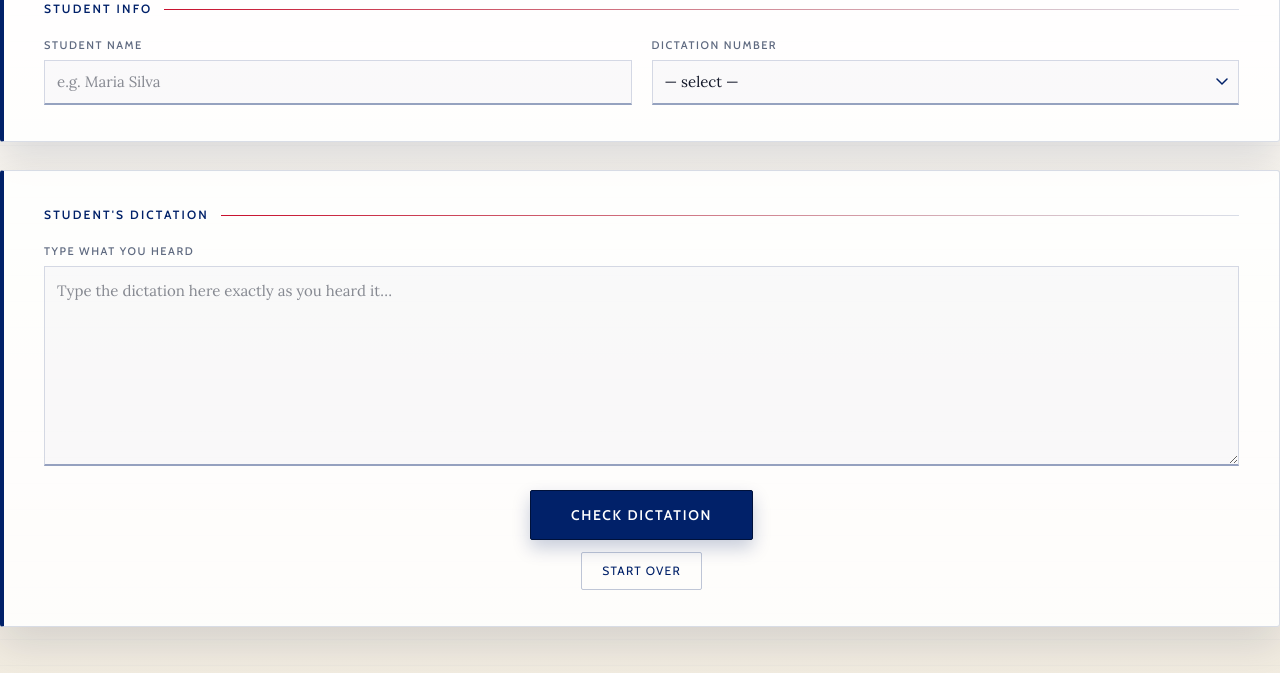
Test: DictationChecker › marking › drops to the bottom band when little is right
Type "Maria Silva" into the field labelled "Student Name". click: (338, 82)
box: [44,60,632,105]
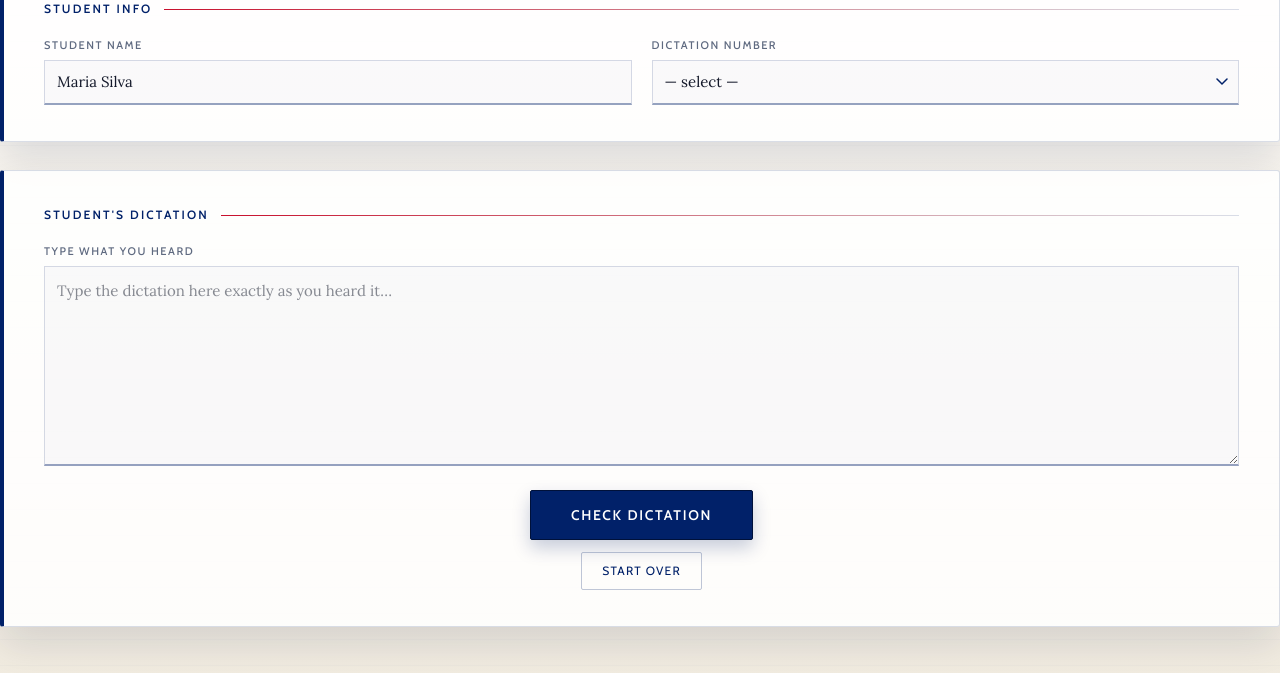
Select "Dictation 118" in the dropdown labelled "Dictation Number". click: (945, 82)
box: [652,60,1239,105]
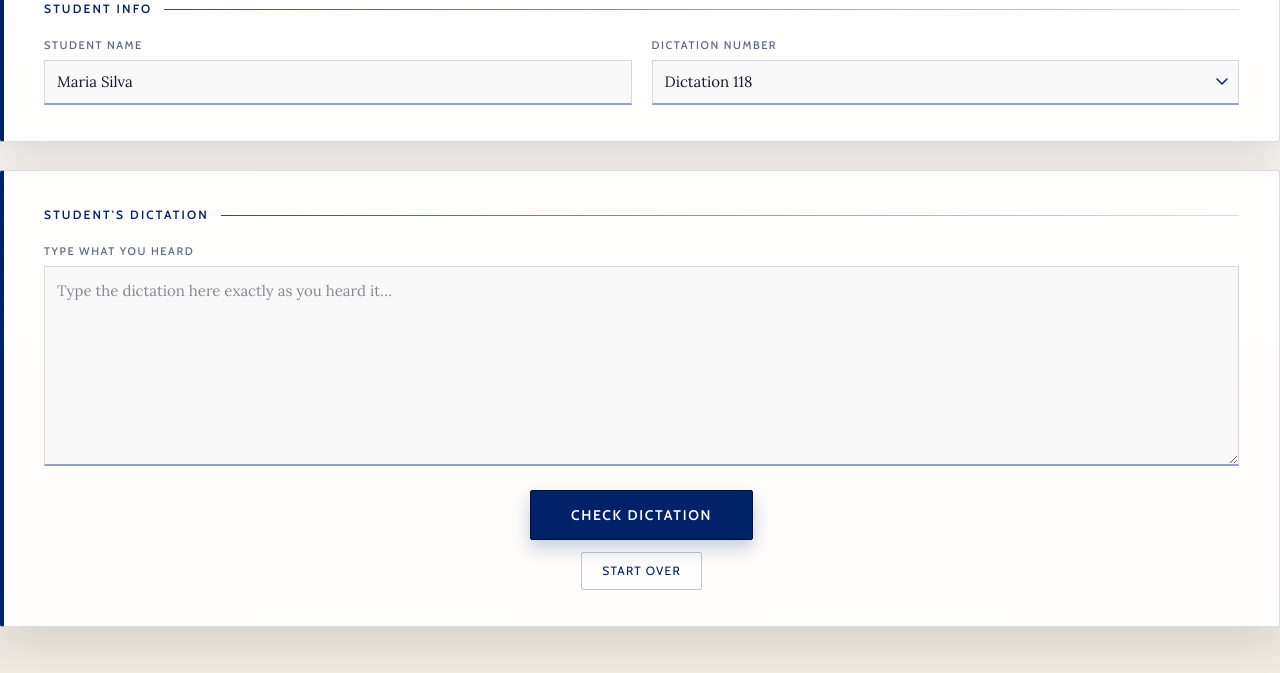
Type "completely unrelated words that match nothing at all" into the text box labelled "Type what you heard". click: (642, 366)
box: [44,266,1239,466]
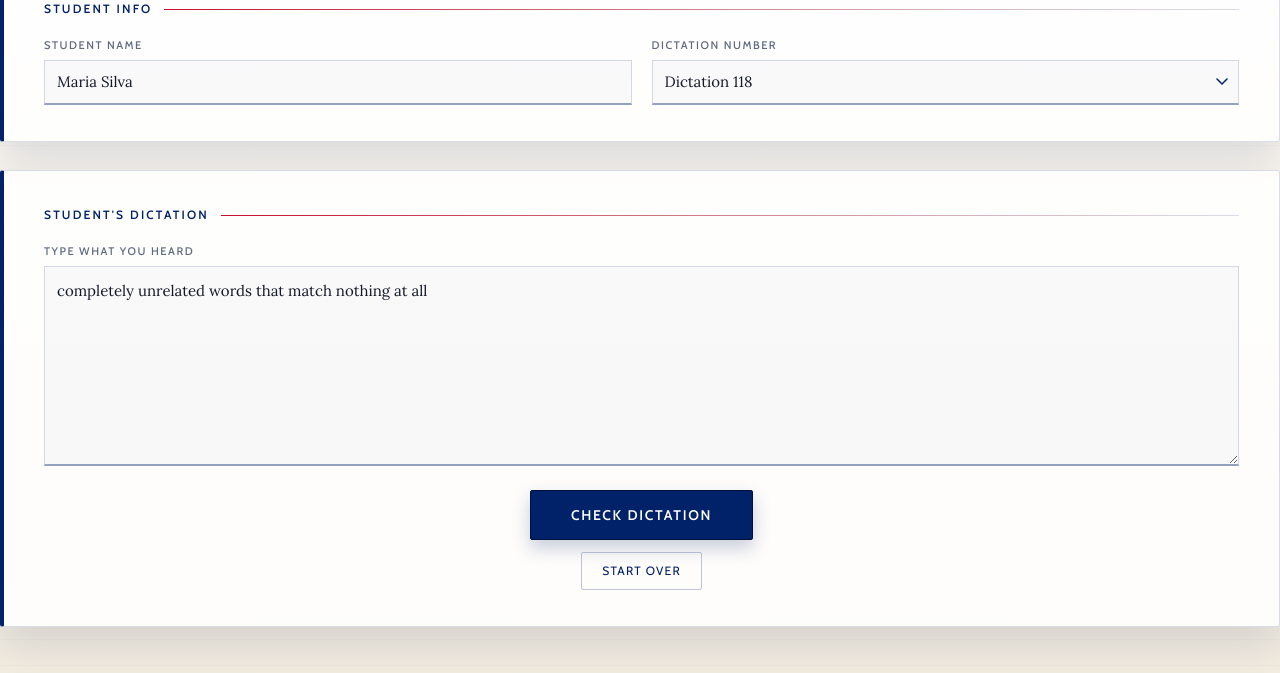
Click the button "Check Dictation". click: (642, 514)
box: [530,490,753,540]
(page scrolled)
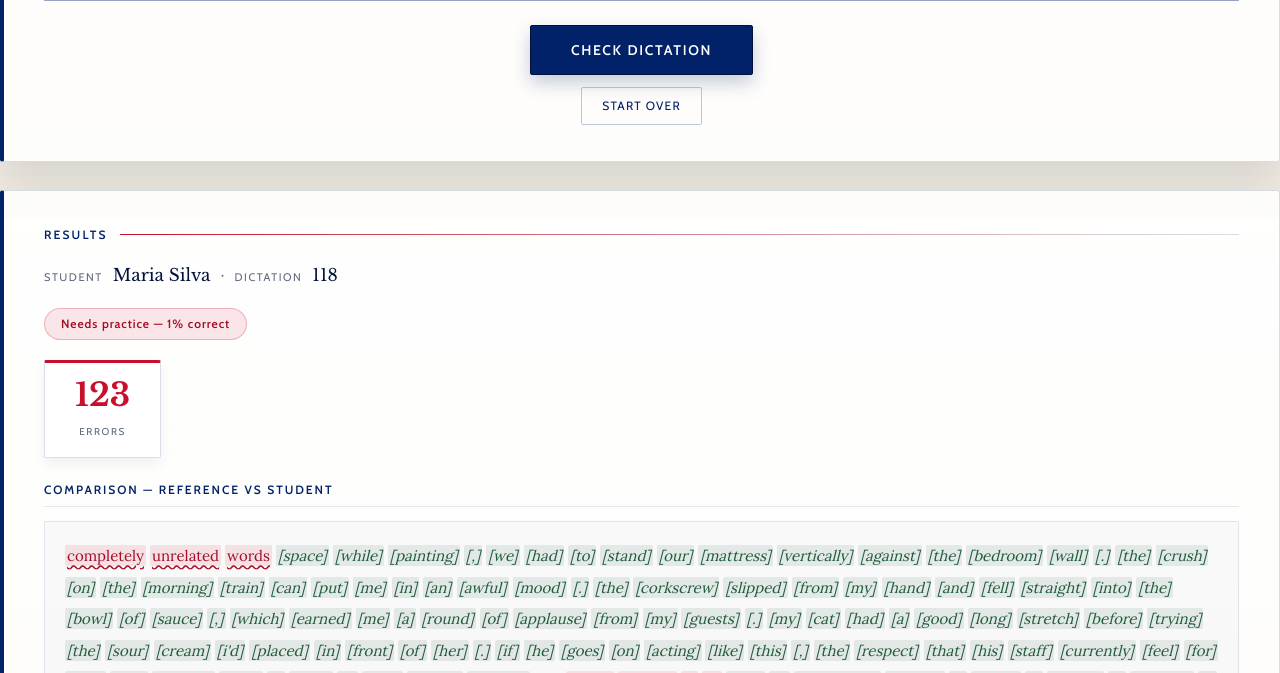
Result: the text "Needs practice — 1% correct" is shown at [44,308,247,340]
